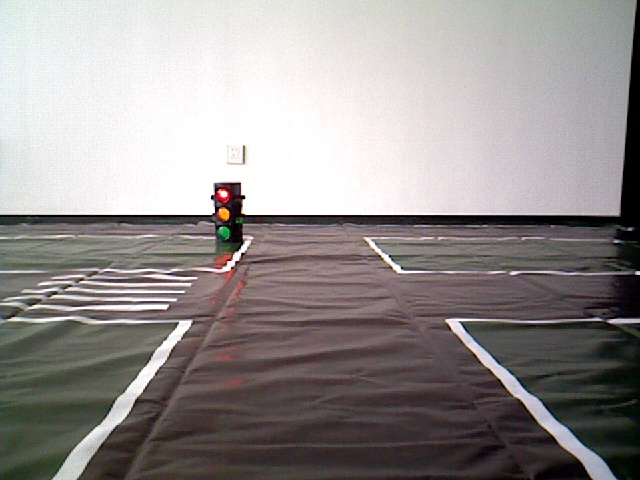red: (213, 185, 238, 245)
